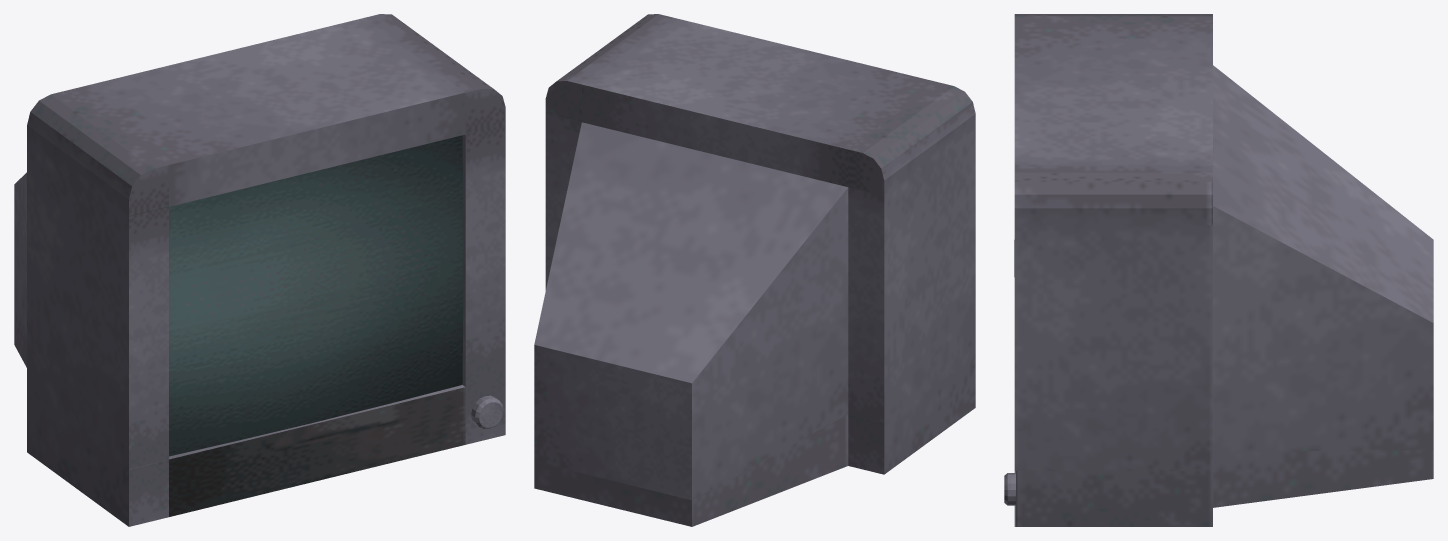
3 renders of one model, left to right at view 1: azimuth 30°, elevation 25°; view 2: azimuth 150°, elevation 25°; view 3: azimuth 270°, elevation 25°, orthographic. The views are drawn at different scales.
Visible parts, largest first — view 1: TV, TV Tela, Botão TV; view 2: TV; view 3: TV.
Boxes of the visible parts, x1,y1,x2,y2 form: TV: (14,14,505,526); TV Tela: (169,135,463,456); Botão TV: (471,395,503,429); TV: (534,14,975,526); TV: (1014,14,1433,526).
Bounding box in the file's own units: 66.15 × 59.1 × 67.1.
1 material, 1 textured.
